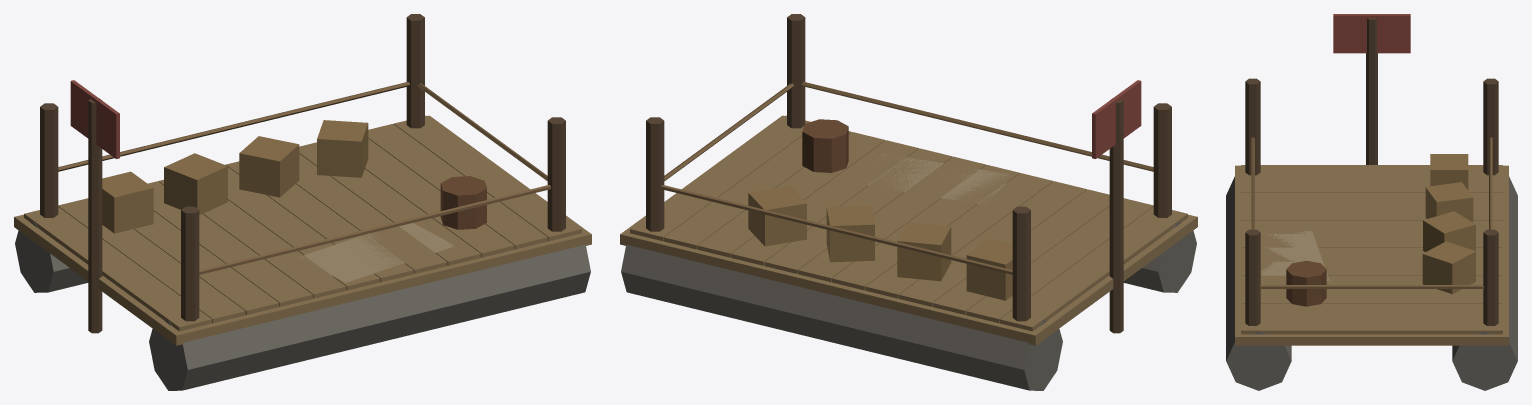
Rendered from S_Pontoon.glb.
The picture shows the model from 3 angles, left to right: view 1: azimuth 30°, elevation 25°; view 2: azimuth 150°, elevation 25°; view 3: azimuth 270°, elevation 25°; orthographic projection. The views are drawn at different scales.
Parts seen in each view (by area): view 1: S_Pontoon; view 2: S_Pontoon; view 3: S_Pontoon.
Boxes of the visible parts, x1,y1,x2,y2 form: S_Pontoon: (14,14,591,390); S_Pontoon: (620,14,1197,390); S_Pontoon: (1226,14,1517,390).
Size of the model in its own units: 6.89 by 3.85 by 4.9.
